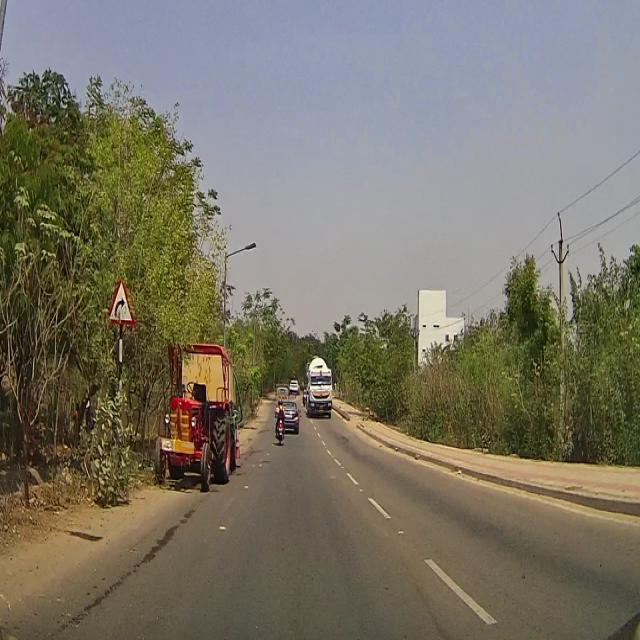right-hand-curve: (107, 269, 135, 323)
